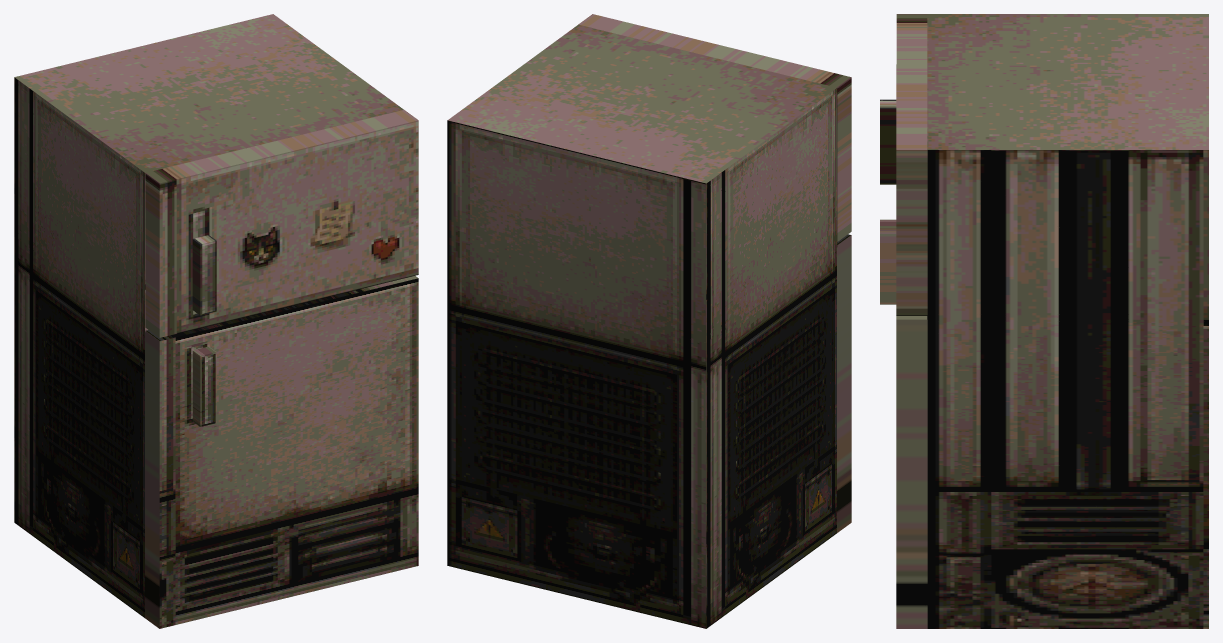
File: fridge.glb
3 renders of one model, left to right at view 1: azimuth 30°, elevation 25°; view 2: azimuth 150°, elevation 25°; view 3: azimuth 270°, elevation 25°, orthographic. The views are drawn at different scales.
Visible parts, largest first — view 1: env_fridge, env_fridge_main, env_fridge_freezer; view 2: env_fridge, env_fridge_freezer, env_fridge_main; view 3: env_fridge, env_fridge_main, env_fridge_freezer.
Part boxes in pixels (<box>): env_fridge: <box>14,14,403,617</box>; env_fridge_main: <box>145,276,418,628</box>; env_fridge_freezer: <box>145,110,418,337</box>; env_fridge: <box>447,24,837,628</box>; env_fridge_freezer: <box>578,14,851,241</box>; env_fridge_main: <box>837,234,851,532</box>; env_fridge: <box>927,14,1208,628</box>; env_fridge_main: <box>880,219,927,628</box>; env_fridge_freezer: <box>880,14,927,315</box>.
Bounding box in the file's own units: 1.28 × 2.1 × 1.31.
1 material, 1 textured.
